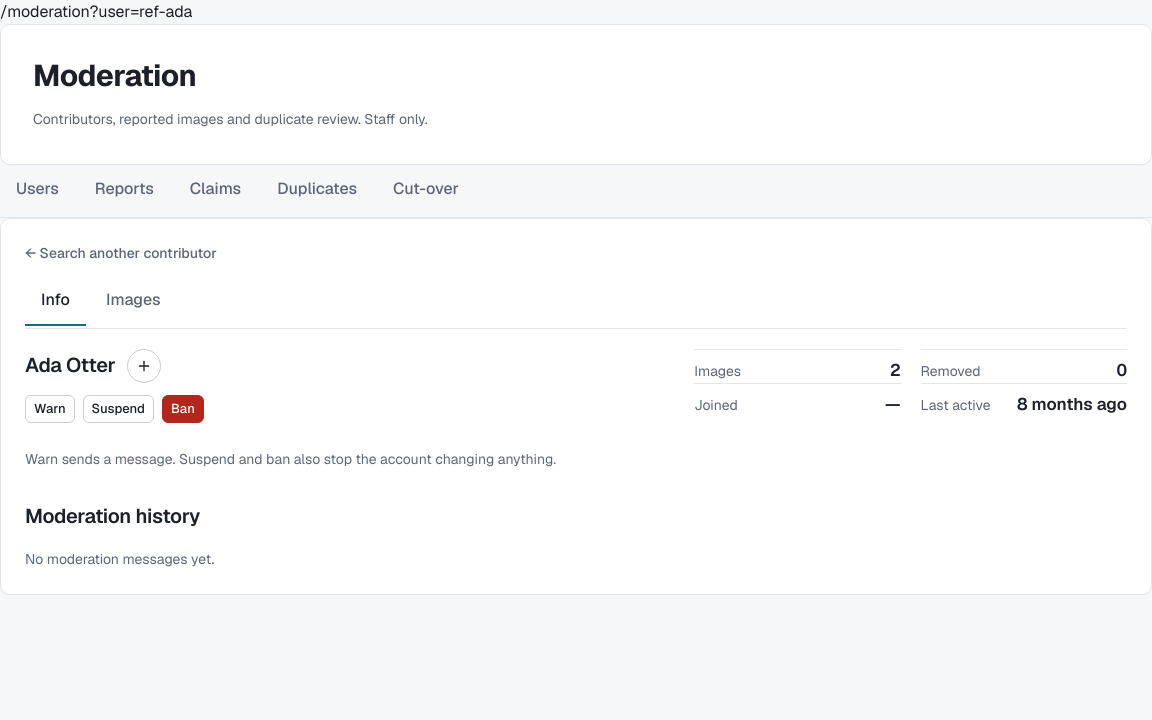
Test: warning a contributor › will not send a warning with no title
Check: the heading "Ada Otter" is shown, box [25,353,115,378]
Click the button "Warn".
click(50, 408)  # box [25,394,75,422]
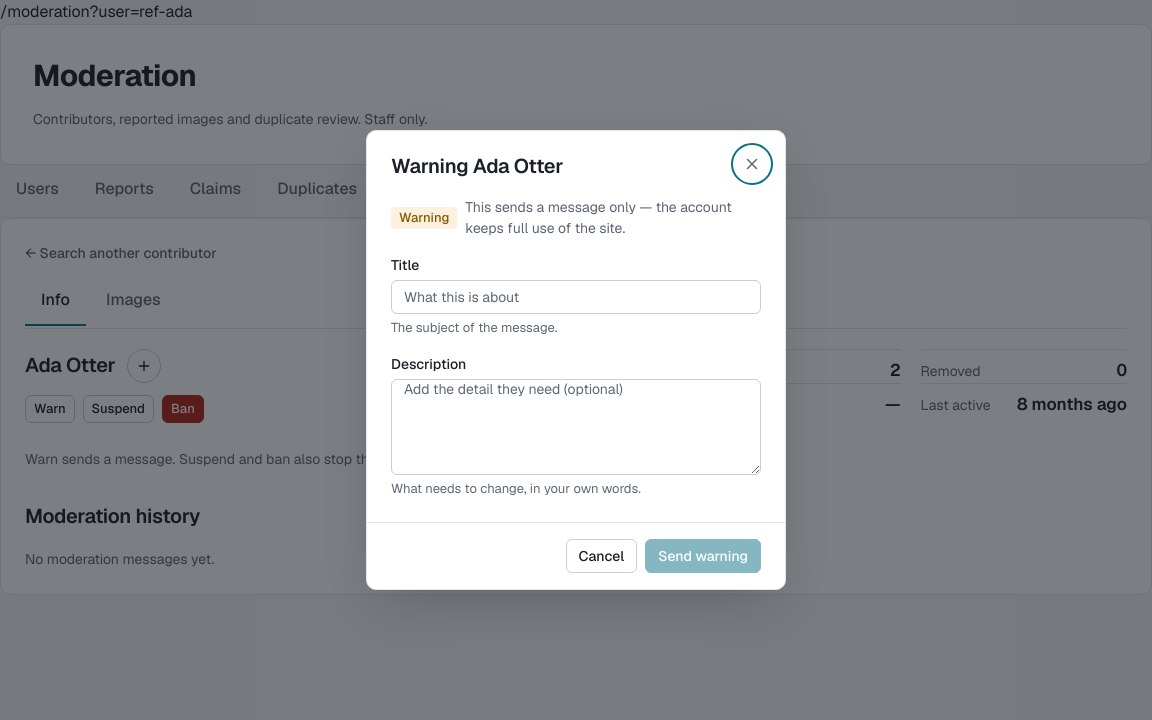
Check: the button "Send warning" is disabled, box [645,539,761,573]
